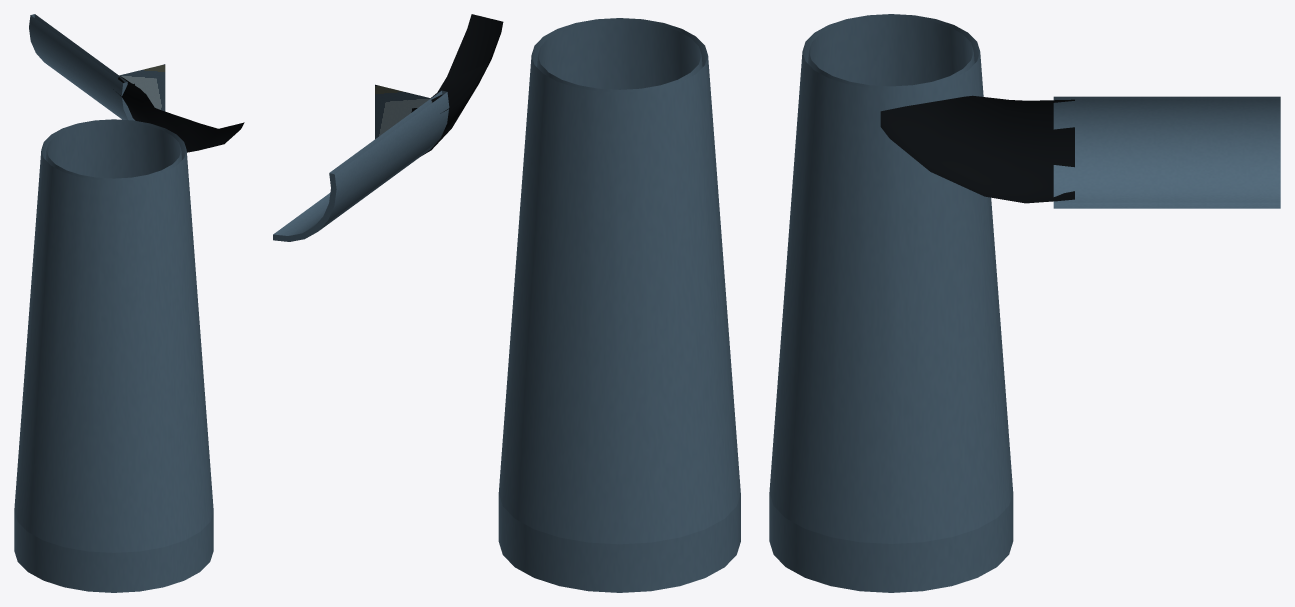
The model's file is cell_0.obj.
3 renders of one model, left to right at view 1: azimuth 30°, elevation 25°; view 2: azimuth 150°, elevation 25°; view 3: azimuth 270°, elevation 25°, orthographic. The views are drawn at different scales.
Visible parts, largest first — view 1: cell_0; view 2: cell_0; view 3: cell_0.
Boxes of the visible parts, x1,y1,x2,y2 form: cell_0: (14,14,244,592); cell_0: (273,14,740,592); cell_0: (769,14,1280,592).
Size of the model in its own units: 0.5555 by 1 by 0.9455.
